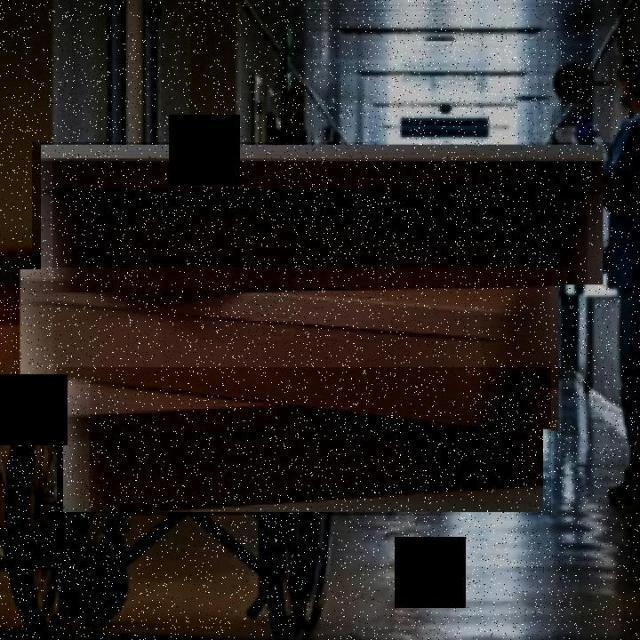box: (12, 267, 568, 433), (32, 142, 612, 289), (57, 367, 551, 517)
